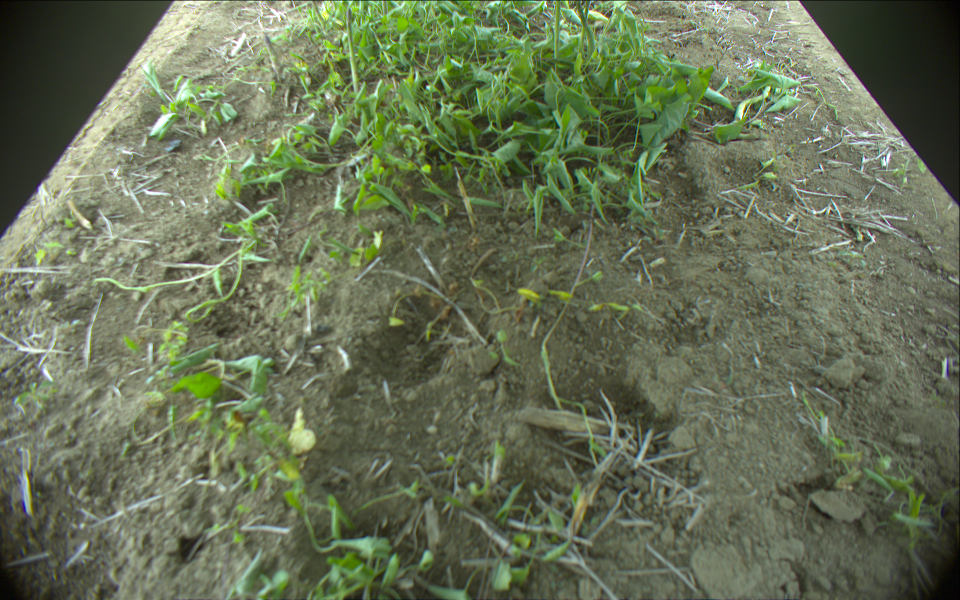aspa: (732, 84, 773, 122), (344, 8, 361, 97), (574, 1, 597, 55), (576, 1, 595, 54), (257, 32, 281, 72), (550, 1, 563, 63), (311, 1, 328, 27), (380, 1, 390, 17)
